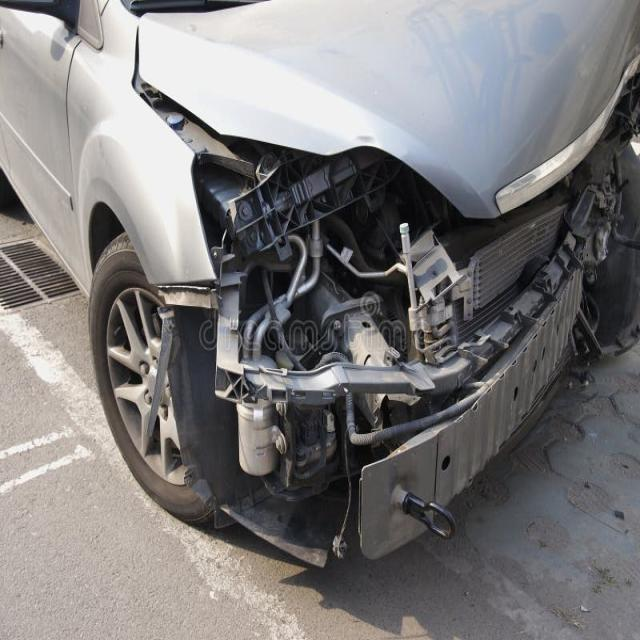crush: (129, 0, 640, 565)
